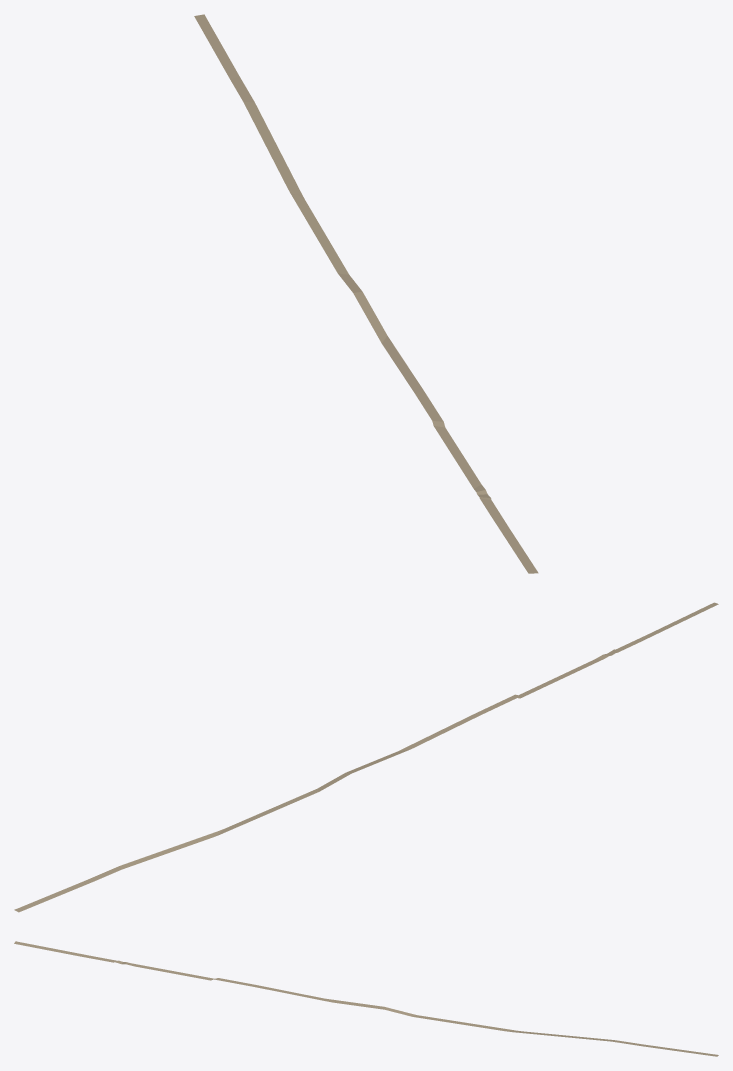
File: farm_-10_-12_track.glb
The picture shows the model from 3 angles, top to bottom: view 1: azimuth 30°, elevation 25°; view 2: azimuth 150°, elevation 25°; view 3: azimuth 270°, elevation 25°; orthographic projection. The views are drawn at different scales.
Visible parts, largest first — view 1: geometry_0; view 2: geometry_0; view 3: geometry_0.
Part boxes in pixels (box(x1,y1,x2,y2)): geometry_0: box(194, 14, 538, 573); geometry_0: box(14, 602, 718, 912); geometry_0: box(14, 941, 718, 1056).
Size of the model in its own units: 135 by 17.24 by 436.
